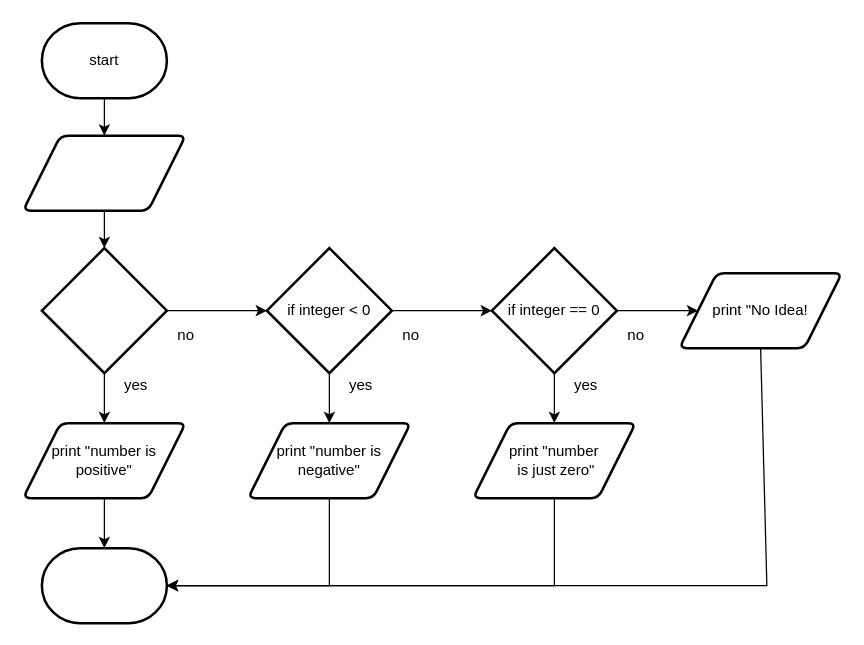
The diagram is 864 pixels wide and 645 high, and some of its shapes have lost their labels. Here are the shapes that lost their labels. From the top down, the box of each, then its label:
(21, 134, 186, 211): get integer from user
(40, 246, 168, 374): if integer > 0
(40, 546, 168, 624): stop
